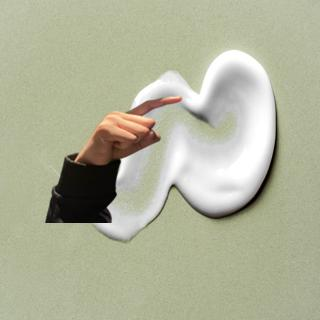WHY: (74, 87, 189, 165)
